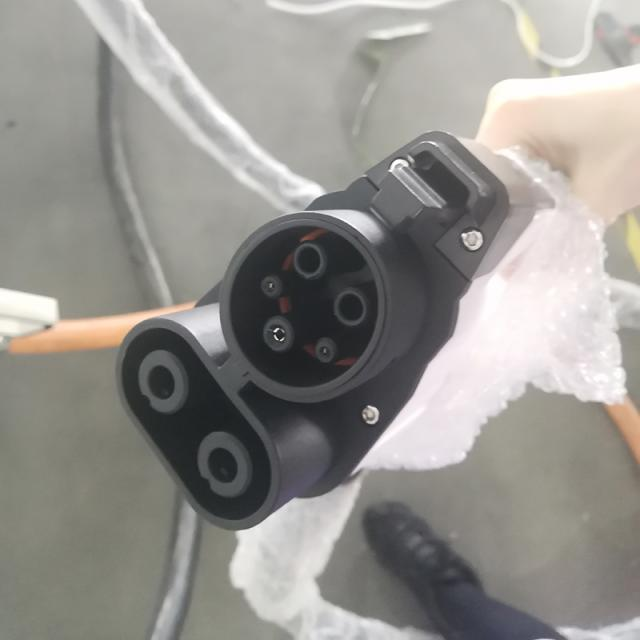CCS1: (105, 175, 372, 533)
